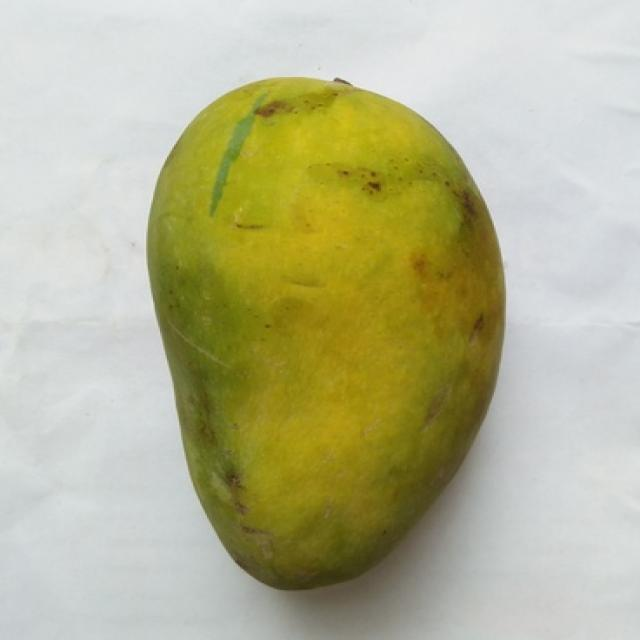Mango: (151, 78, 504, 589)
